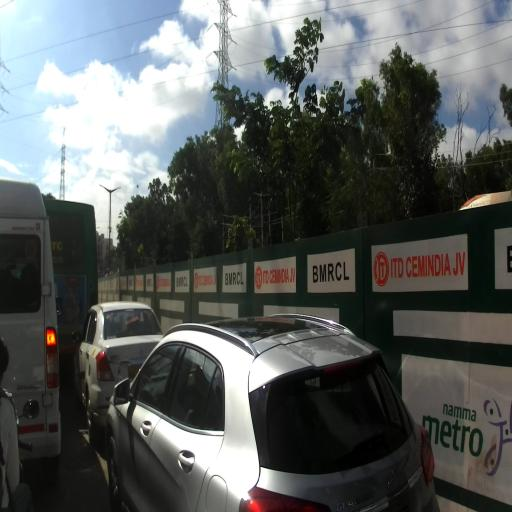street_light_0: (99, 184, 112, 196), (109, 187, 121, 196), (96, 226, 100, 230)
